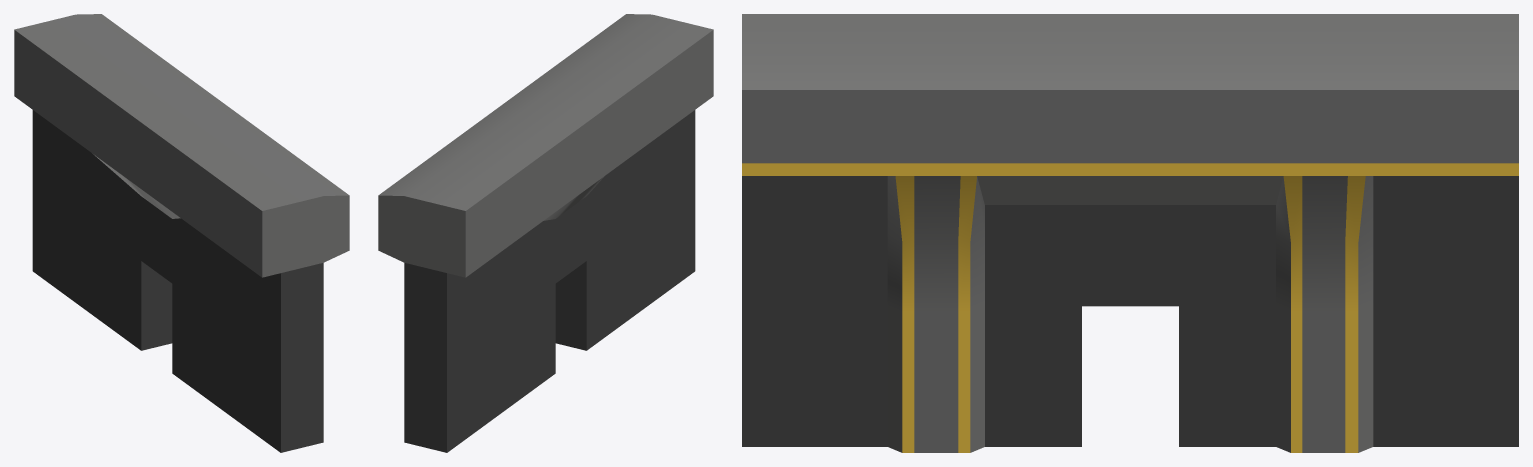
Rendered from Factory_CorridorWide.fbx.
3 views of the same model, side by side, from view 1: azimuth 30°, elevation 25°; view 2: azimuth 150°, elevation 25°; view 3: azimuth 270°, elevation 25° (orthographic). The views are drawn at different scales.
Visible parts, largest first — view 1: FactoryWallWide; view 2: FactoryWallWide; view 3: FactoryWallWide.
Part boxes in pixels (bbox=[...]): FactoryWallWide: bbox=[14, 14, 349, 452]; FactoryWallWide: bbox=[378, 14, 713, 452]; FactoryWallWide: bbox=[742, 14, 1518, 452].
Size of the model in its own units: 20.39 by 54.82 by 100.
